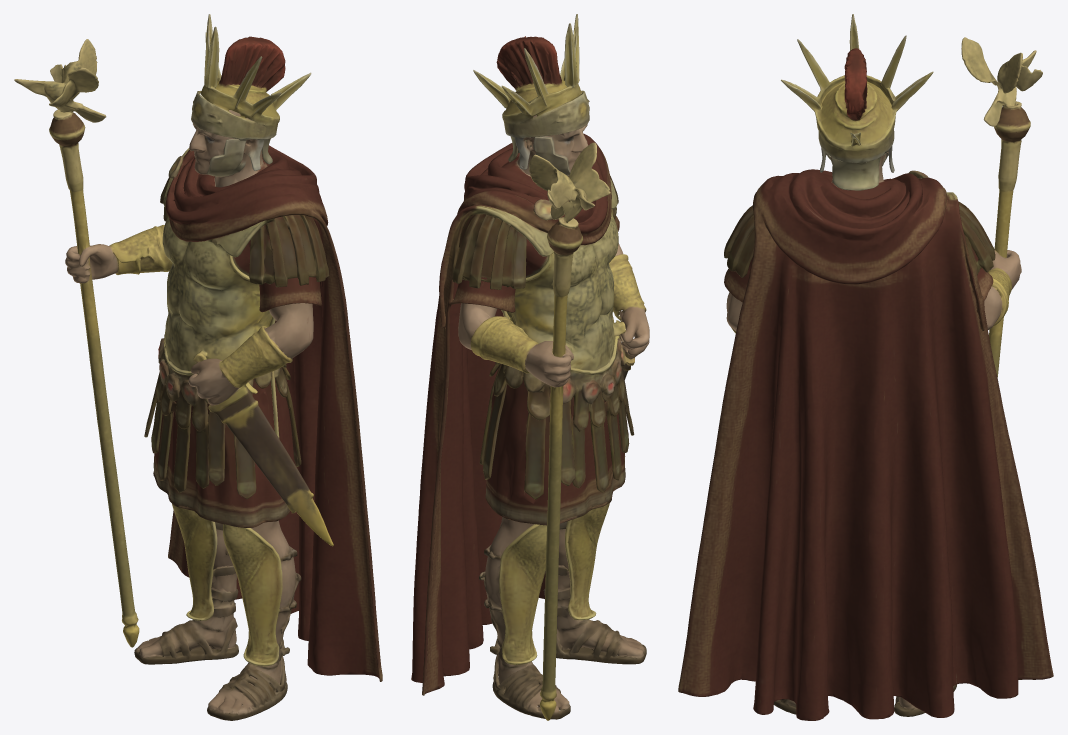
File: light_king.glb
3 renders of one model, left to right at view 1: azimuth 30°, elevation 25°; view 2: azimuth 150°, elevation 25°; view 3: azimuth 270°, elevation 25°, orthographic. The views are drawn at different scales.
Visible parts, largest first — view 1: geom0; view 2: geom0; view 3: geom0.
Boxes of the visible parts, left/top/right/bottom form: geom0: left=14, top=14, right=382, bottom=720; geom0: left=411, top=14, right=649, bottom=720; geom0: left=678, top=14, right=1053, bottom=720.
Size of the model in its own units: 0.3697 by 1 by 0.5018.
1 material, 1 textured.
